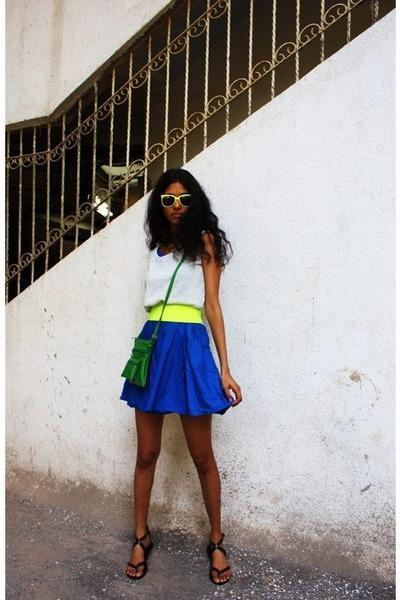bag: (121, 335, 155, 386)
shirt: (145, 248, 204, 299)
shoe: (126, 547, 227, 584)
skirt: (120, 320, 227, 415)
